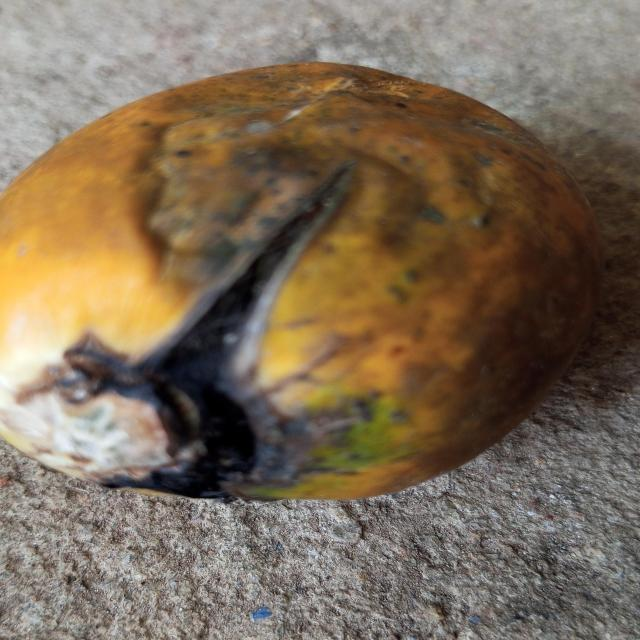damaged: (0, 63, 600, 500)
